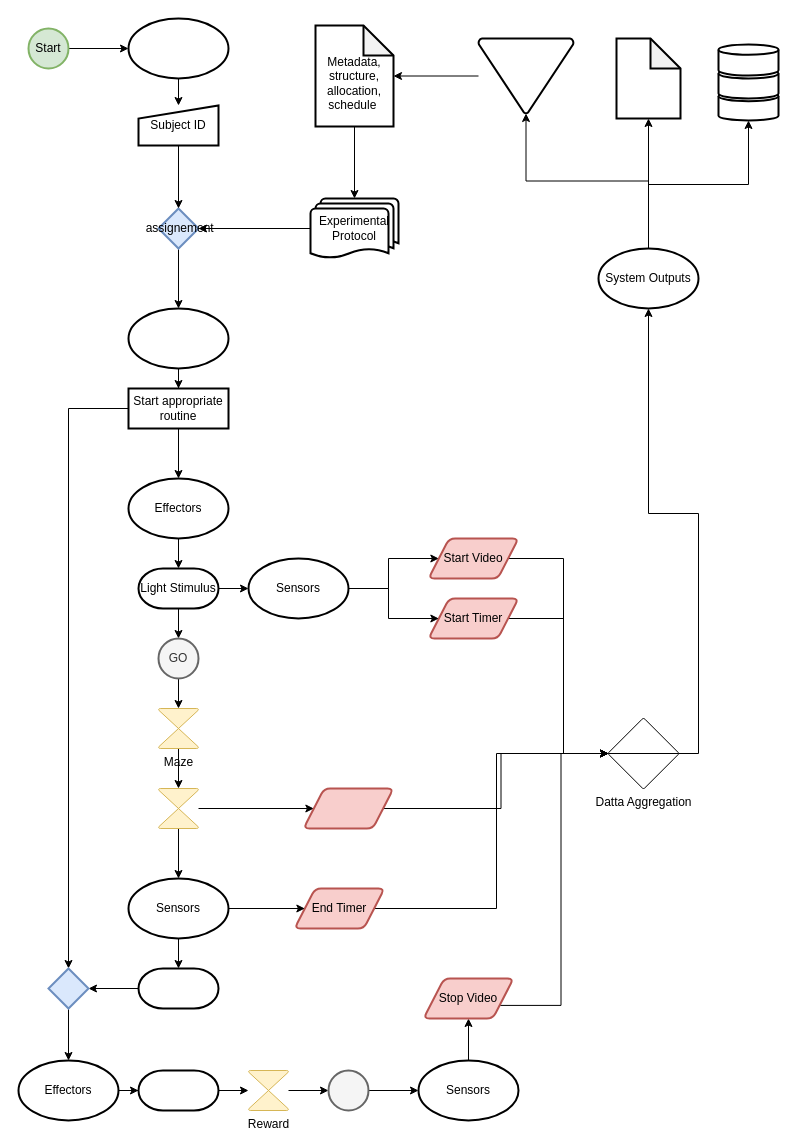
The diagram is 796 pixels wide and 1148 high, and some of its shapes have lost their labels. The shapes that lost their labels are listed below. From the top down, each one's box as (x1, y1, x2, y2) in pixels, then its label:
(127, 17, 229, 79): Manual Input
(477, 37, 574, 114): Metadata Update
(615, 37, 681, 119): Daily Report
(127, 307, 229, 369): Processes
(158, 788, 198, 828): Choice
(302, 787, 394, 829): AB Choice
(47, 967, 89, 1009): evaluation
(137, 967, 219, 1009): Microswitch
(137, 1069, 219, 1111): Servo
(327, 1069, 369, 1111): STOP
